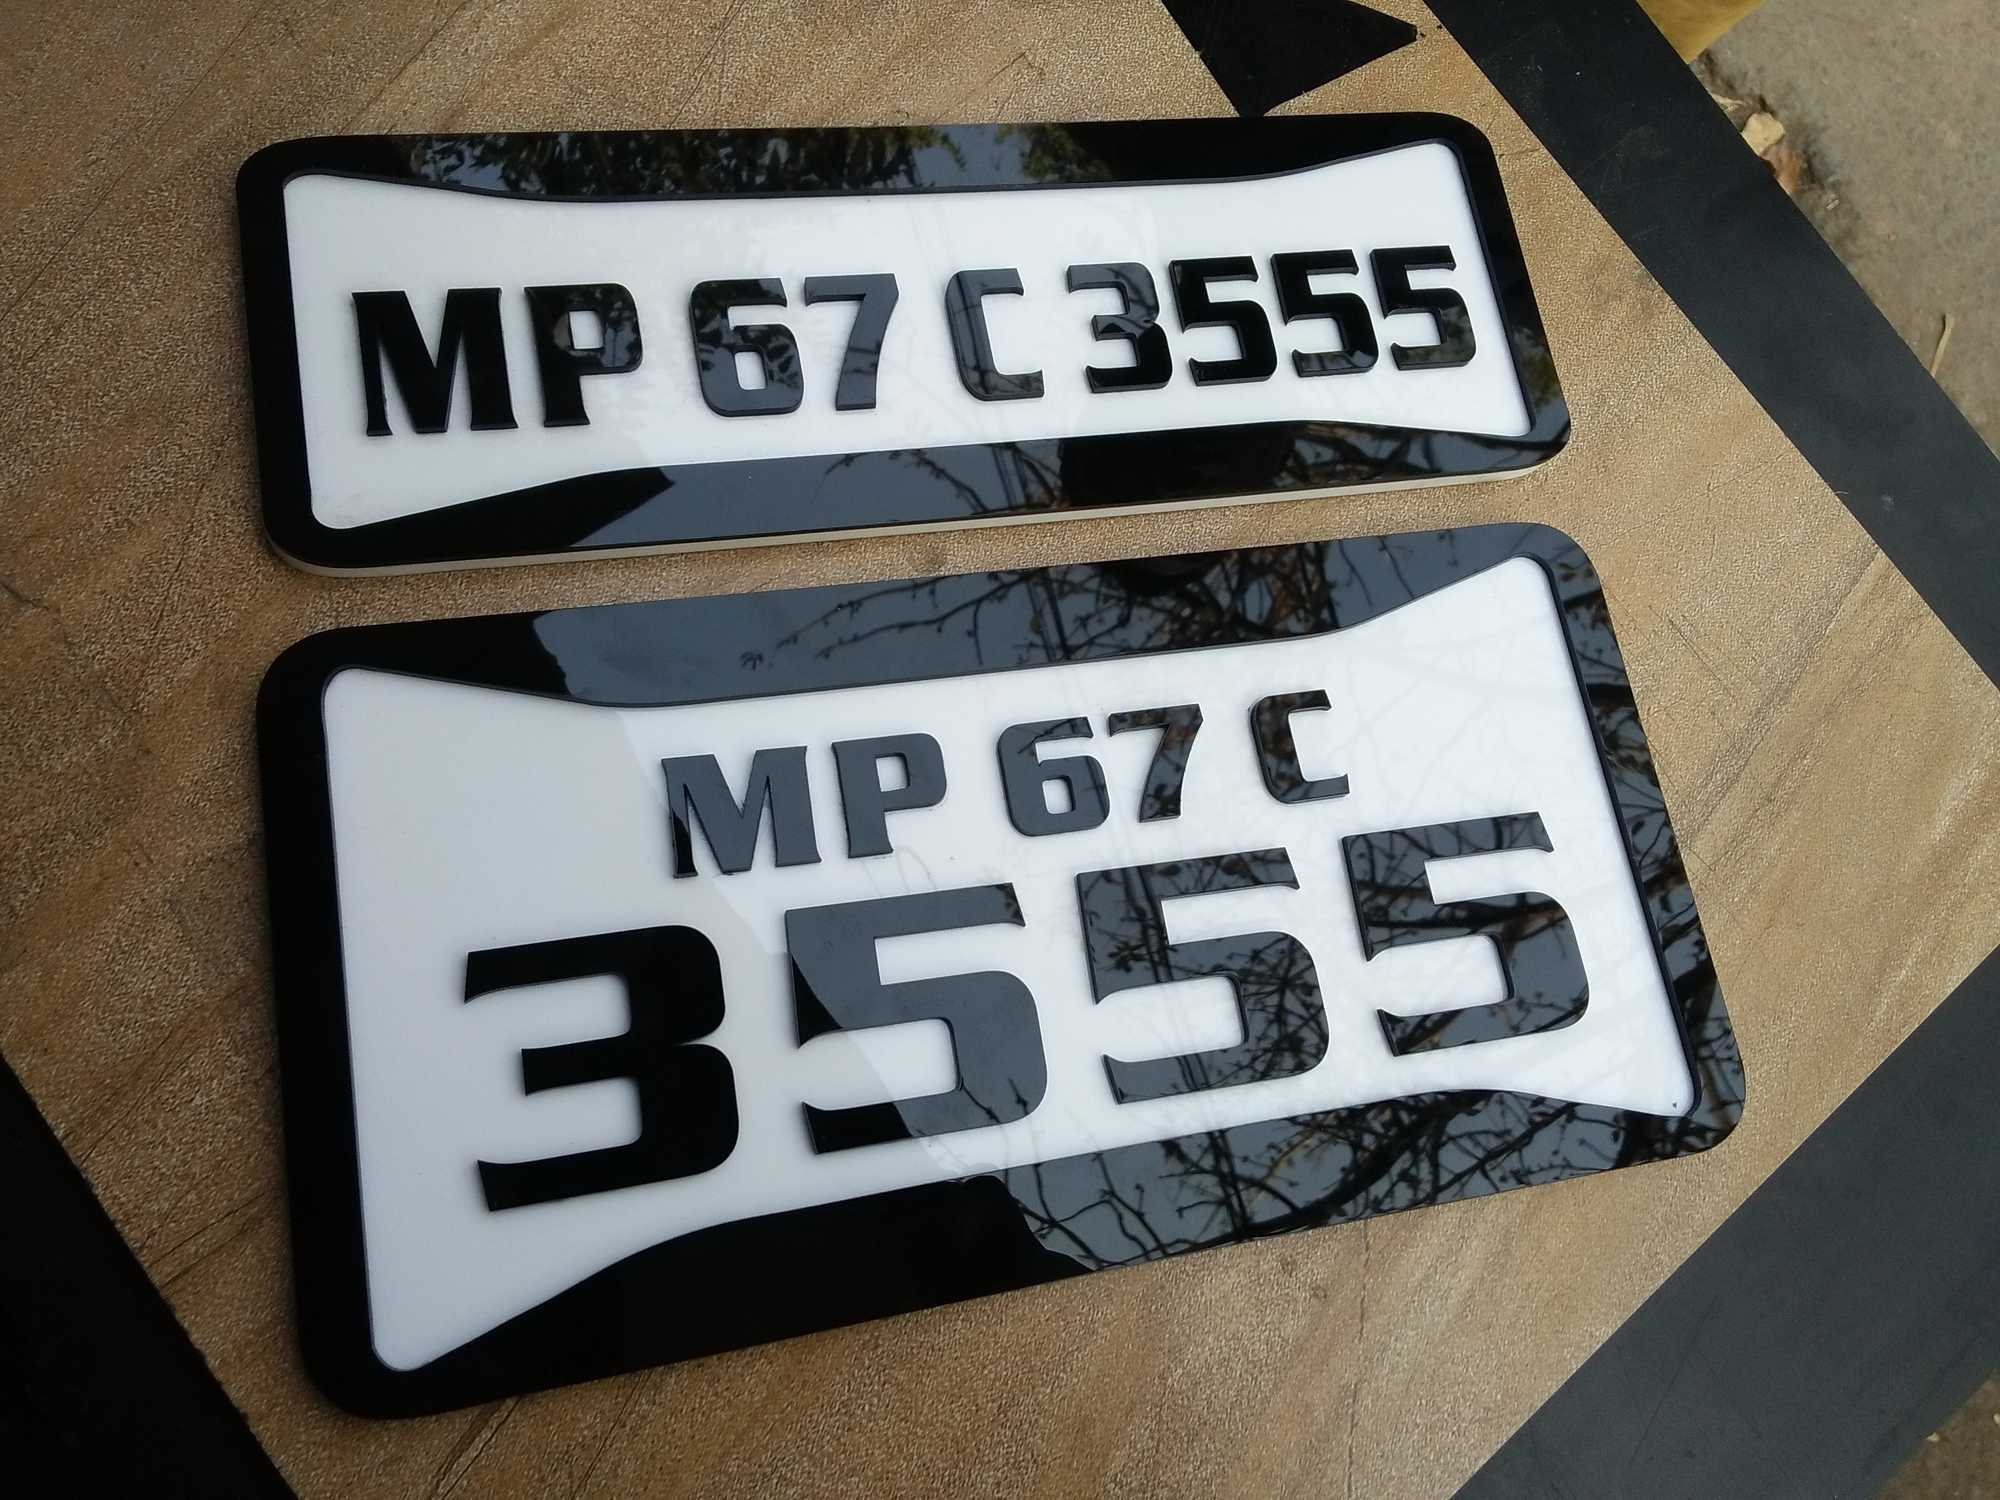number_plate: (191, 525, 1778, 1433), (221, 97, 1630, 555)
